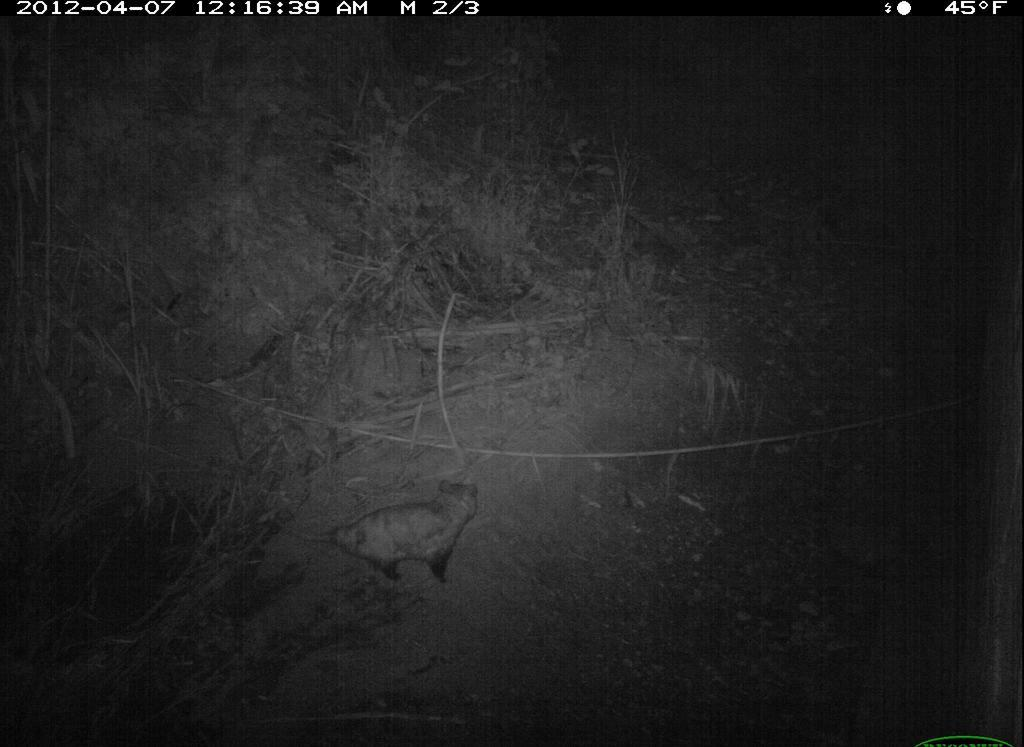opossum: (258, 474, 489, 592)
